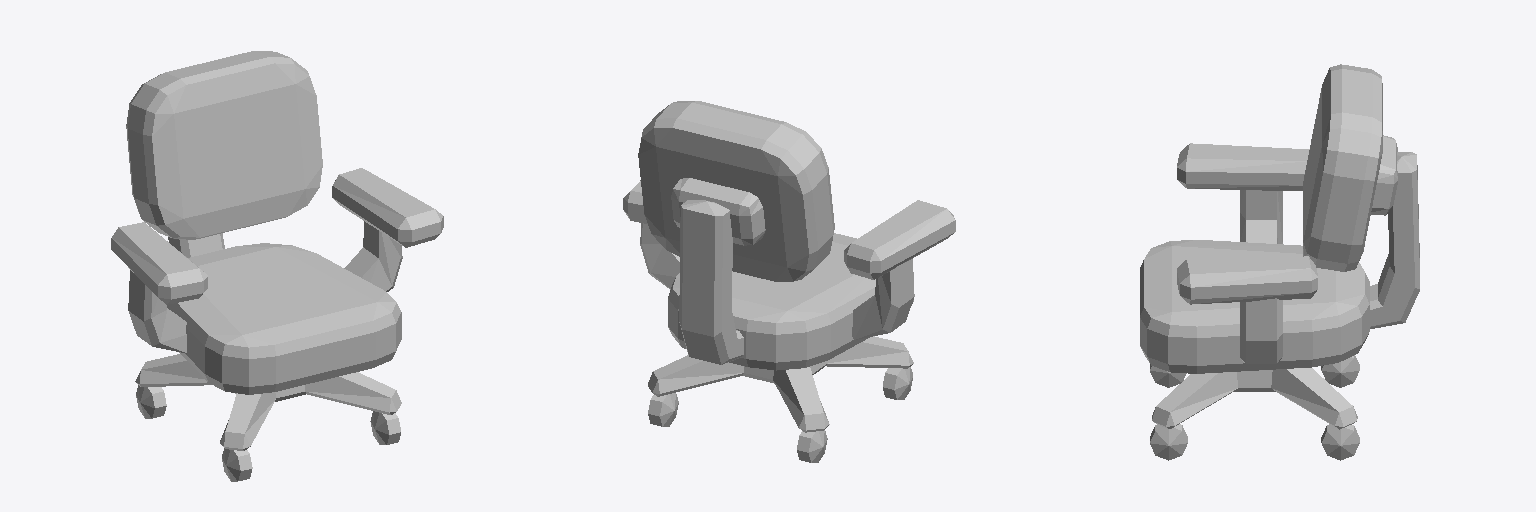
File: chair_desk_B.obj
3 views of the same model, side by side, from view 1: azimuth 30°, elevation 25°; view 2: azimuth 150°, elevation 25°; view 3: azimuth 270°, elevation 25° (orthographic).
Parts seen in each view (by area): view 1: chair_desk_B_Cylinder.624; view 2: chair_desk_B_Cylinder.624; view 3: chair_desk_B_Cylinder.624.
Part boxes in pixels (left/top/right/bottom): chair_desk_B_Cylinder.624: left=111, top=51, right=443, bottom=481; chair_desk_B_Cylinder.624: left=623, top=101, right=955, bottom=462; chair_desk_B_Cylinder.624: left=1140, top=64, right=1419, bottom=460.
Size of the model in its own units: 1.08 by 1.19 by 0.915.